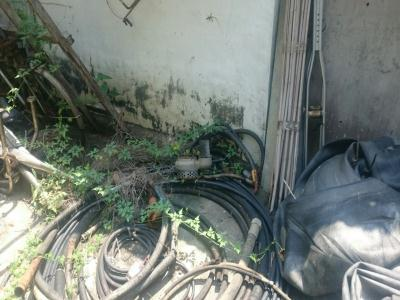plastic_bag: (294, 141, 395, 293)
